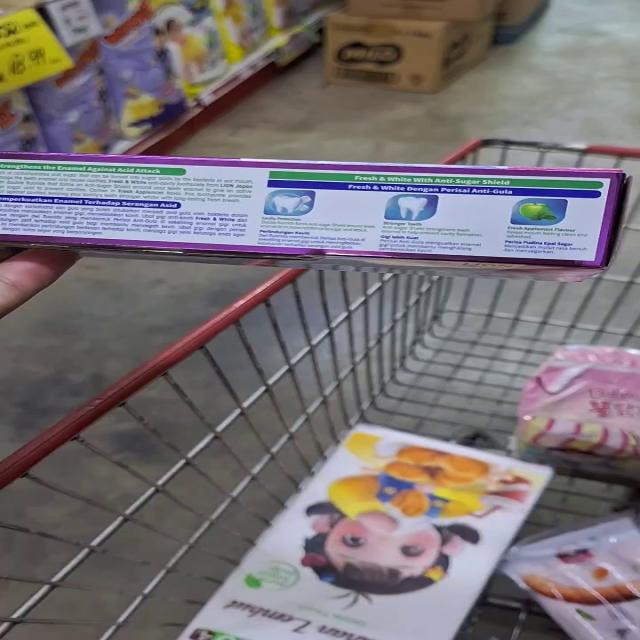Tisu: (194, 503, 507, 640), (302, 421, 566, 574)
Ubat Gigi: (0, 148, 618, 282)
